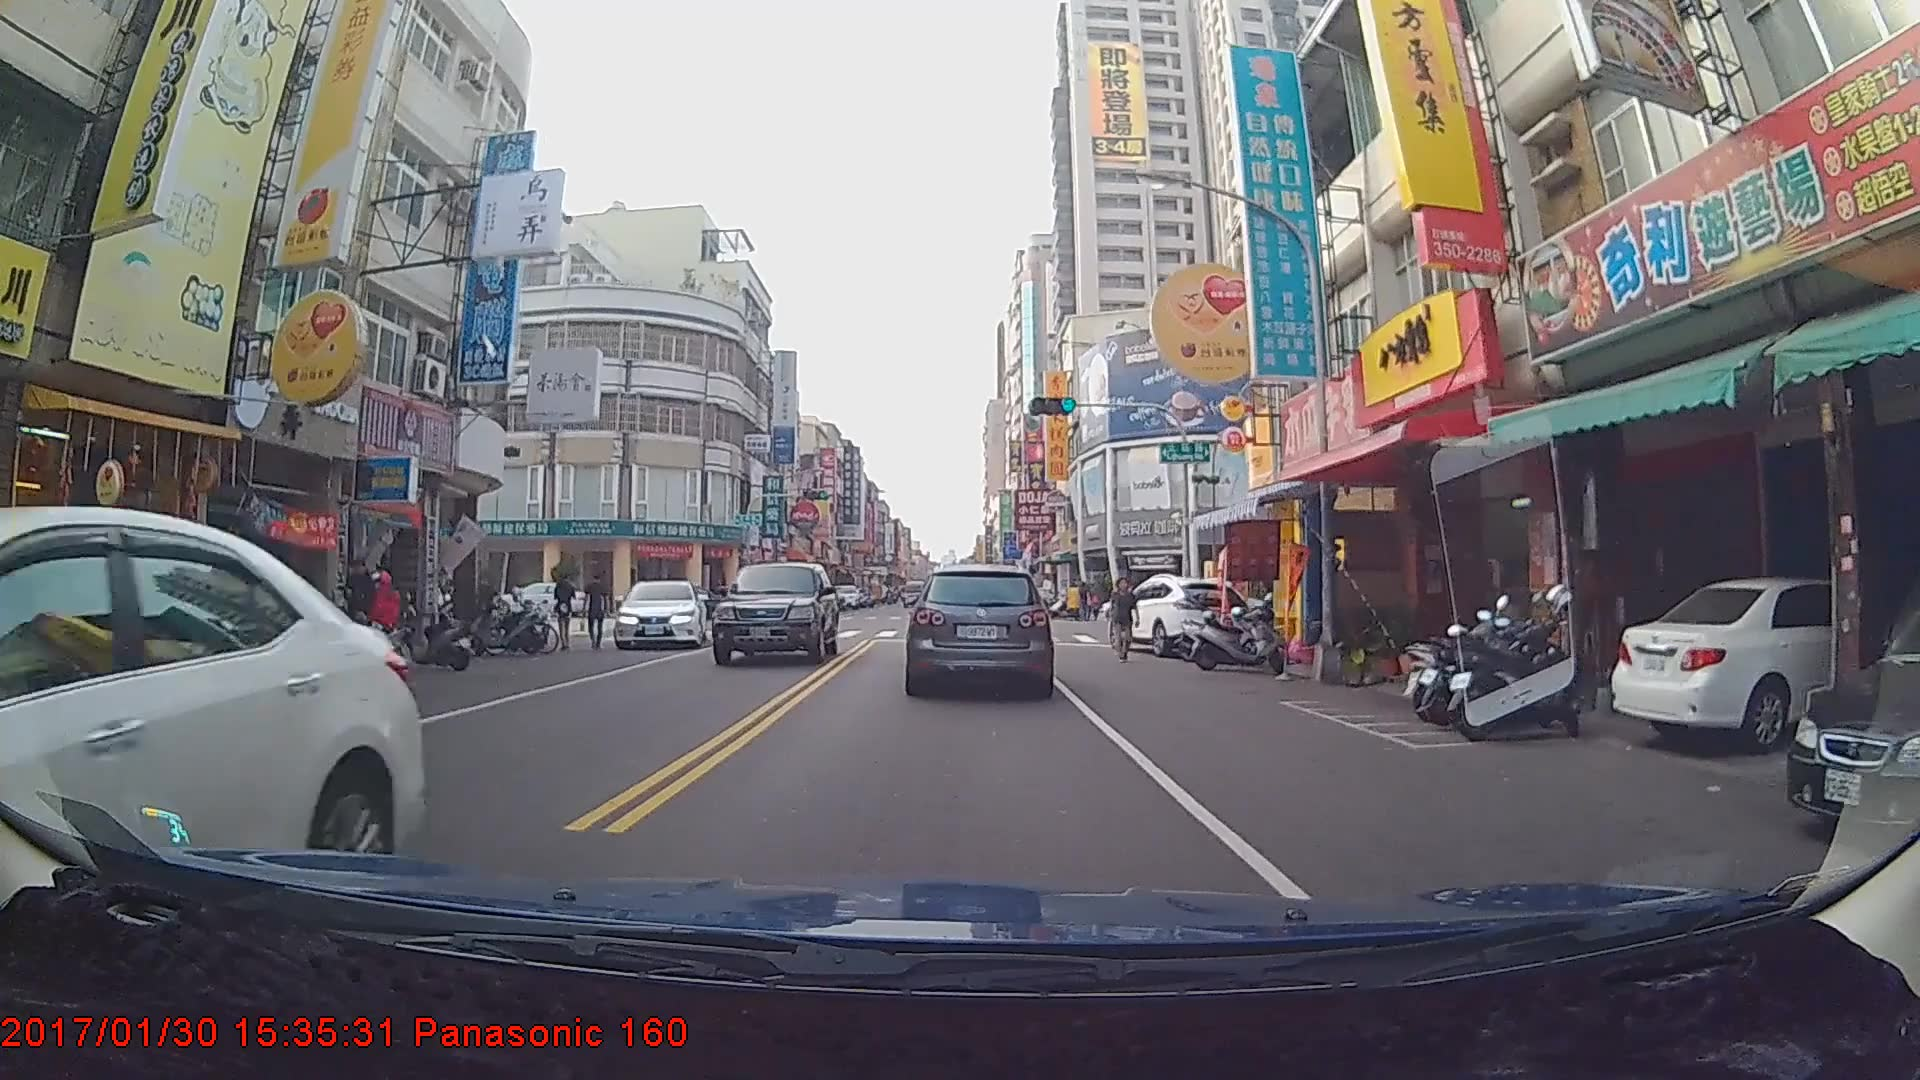pedestrian: (341, 552, 383, 649), (1105, 577, 1139, 660), (583, 568, 612, 646), (552, 571, 577, 652)
vehicle: (0, 505, 424, 999), (1605, 572, 1920, 753), (909, 563, 1053, 695), (714, 559, 839, 665), (1101, 573, 1255, 655), (612, 575, 705, 647), (902, 576, 929, 605)
